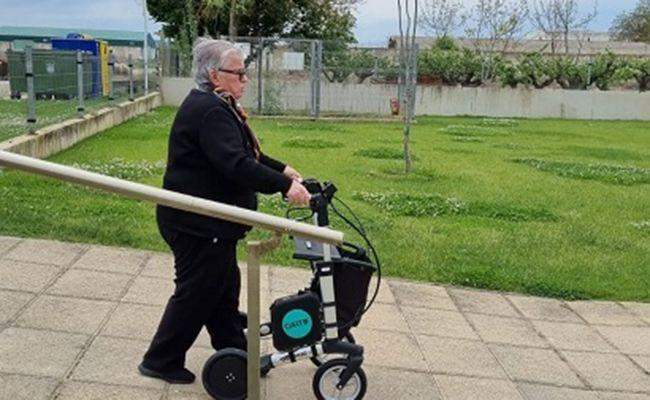walking_frame: (138, 40, 381, 400)
